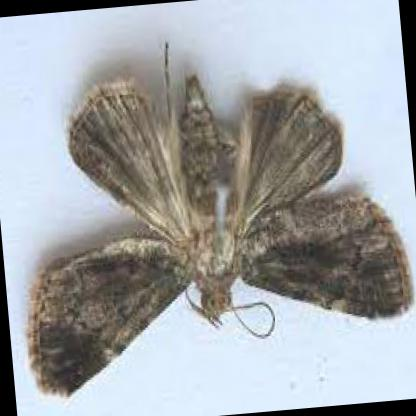Leaf Webber: (34, 71, 412, 400)
